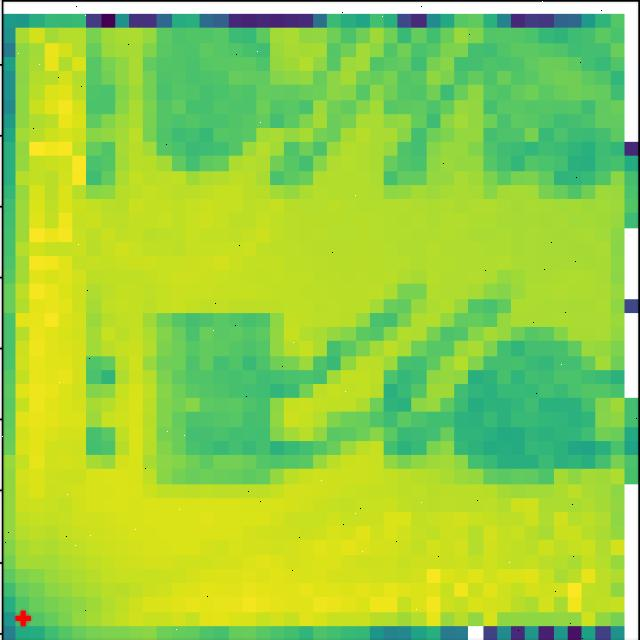Concrete: (142, 316, 283, 490)
Glass: (475, 31, 601, 191)
Metal: (143, 28, 267, 176)
Wood: (438, 301, 592, 482)
